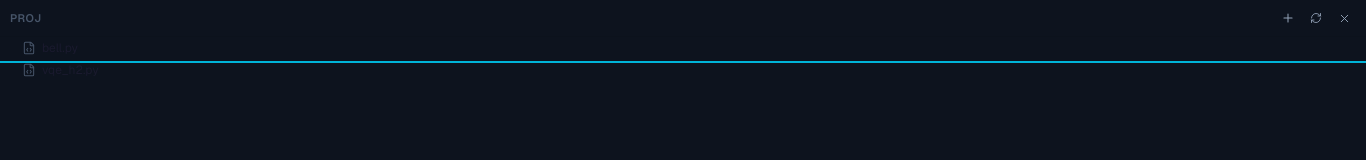
FileExplorer rename (r7-research-02/03) › rejects a name that already exists in the folder inline, keeping the input open
Step 1. Press F2 in the list item "bell.py", box [22, 40, 78, 56]
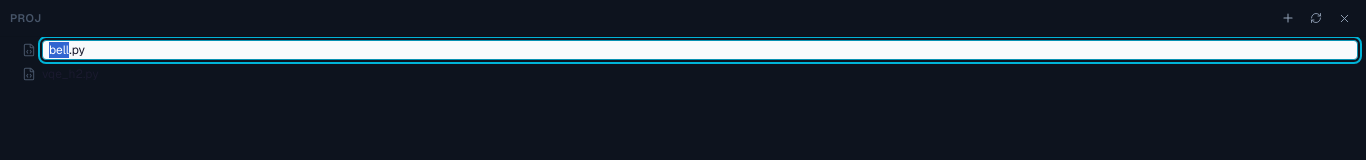
Step 2. Replace the text in the field named "Rename bell.py" with "vqe_h2.py" → (700, 50), box [42, 40, 1358, 60]
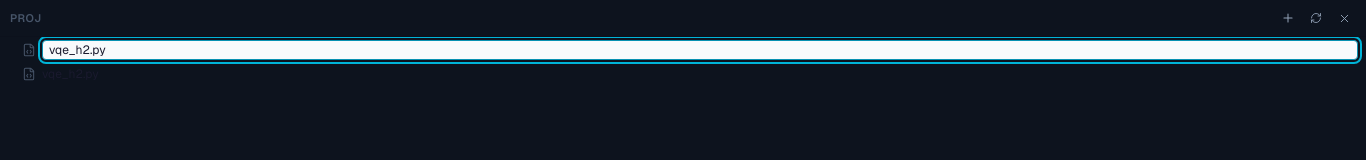
Step 3. Press Enter in the field named "Rename bell.py", box [42, 40, 1358, 60]
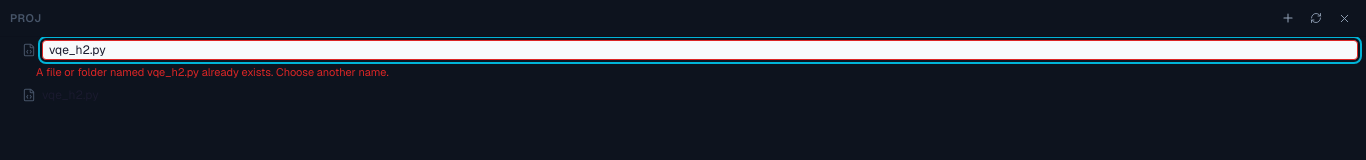
Expected: the message shows "already exists", [36, 65, 389, 79]
